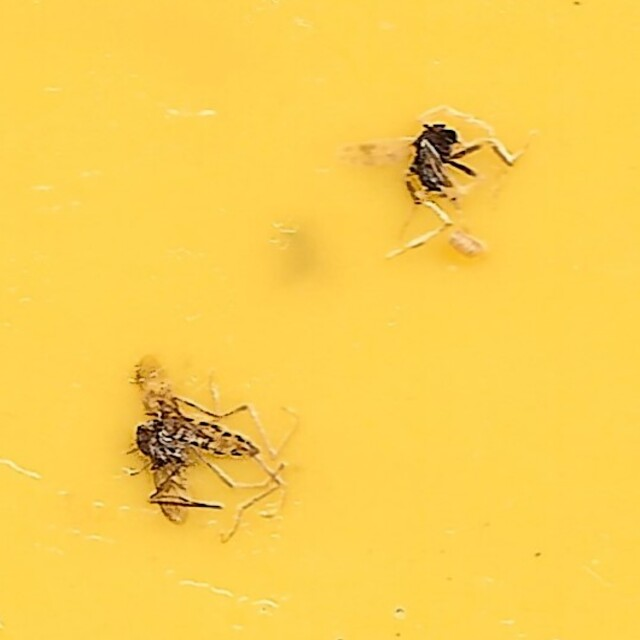Nematocera: (121, 353, 302, 535), (354, 105, 519, 242)
